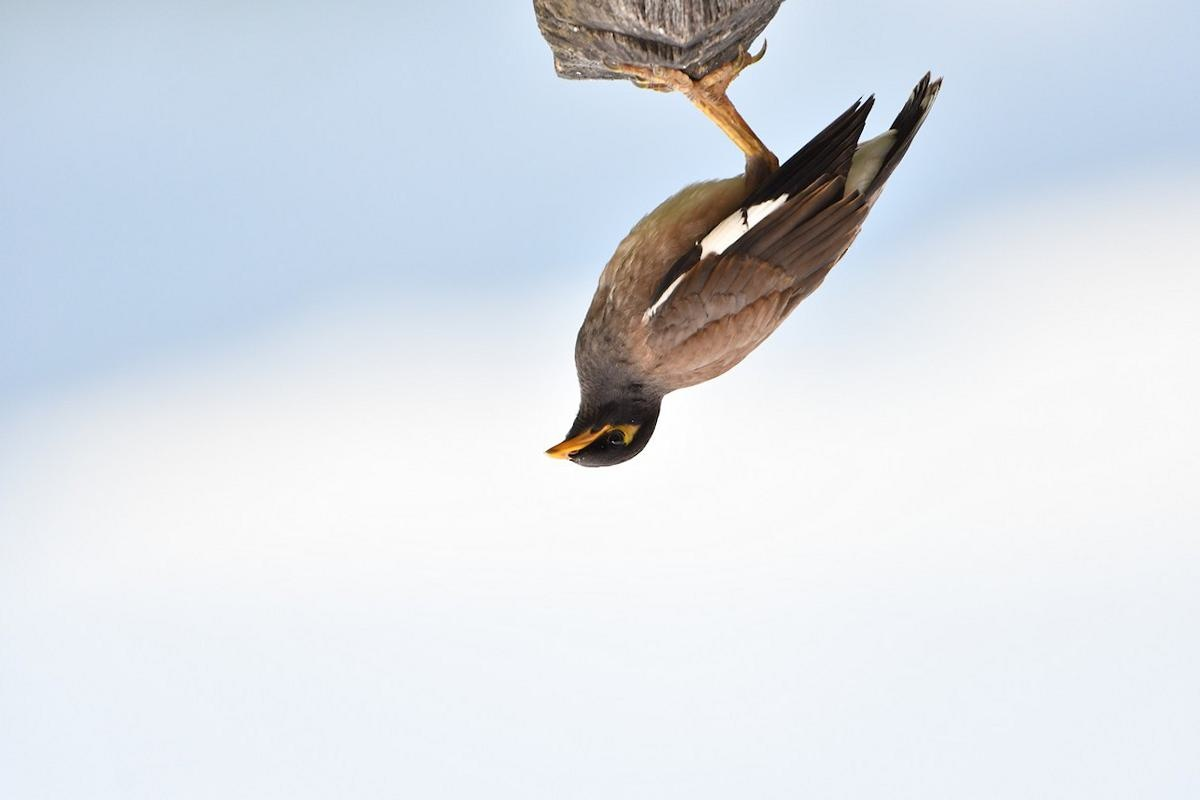myna: (524, 43, 927, 502)
